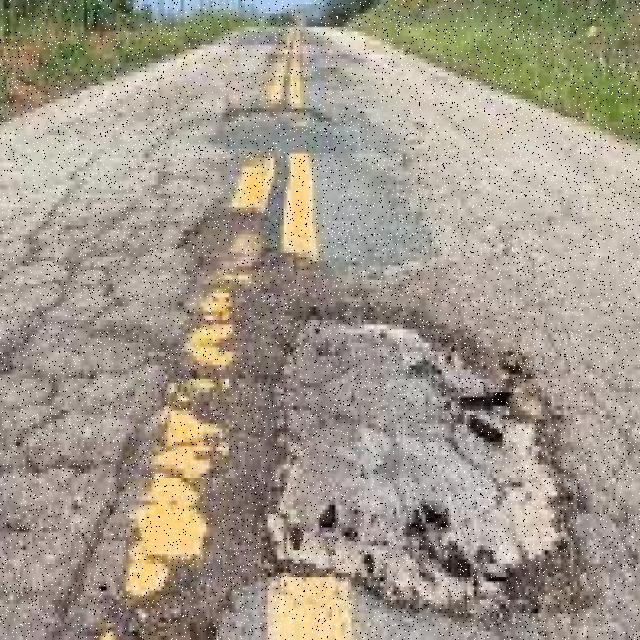pothole: (246, 310, 583, 615), (215, 108, 351, 154)
